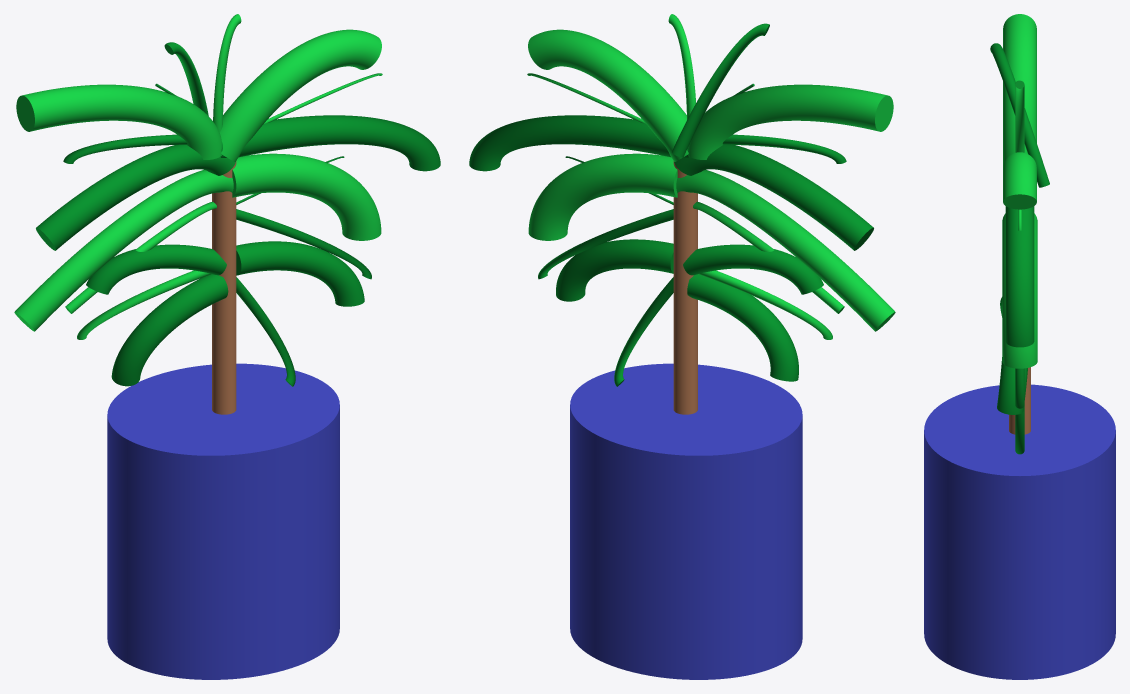
File: flowerpot.fbx
3 views of the same model, side by side, from view 1: azimuth 30°, elevation 25°; view 2: azimuth 150°, elevation 25°; view 3: azimuth 270°, elevation 25° (orthographic). The views are drawn at different scales.
Visible parts, largest first — view 1: root (×18); view 2: root (×18); view 3: root (×11).
Boxes of the visible parts, x1=… form: root (×18): x1=14, y1=14, x2=440, y2=679; root (×18): x1=469, y1=14, x2=895, y2=679; root (×11): x1=924, y1=14, x2=1115, y2=679.
Size of the model in its own units: 0.3517 by 0.4915 by 0.1524.
Materials: 21 (20 with a texture image).
